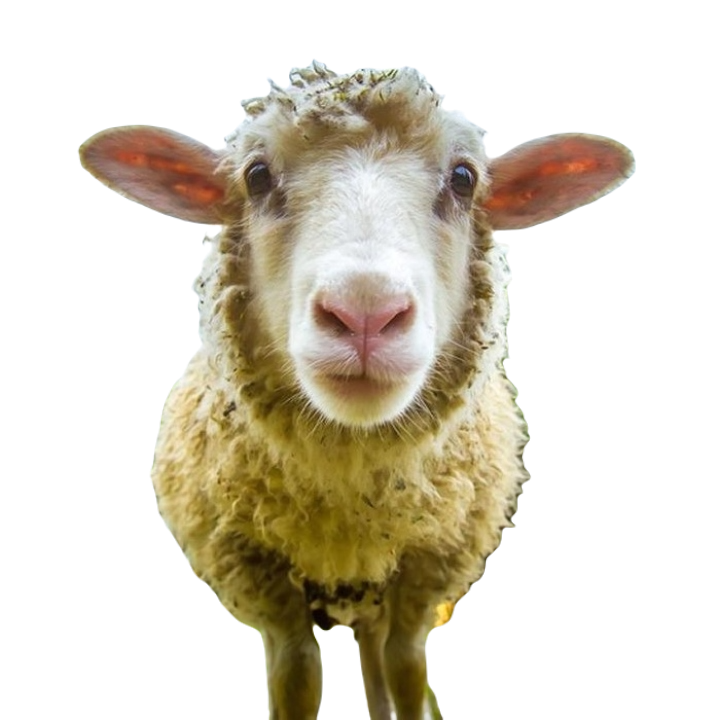Sheep: (76, 60, 639, 719)
